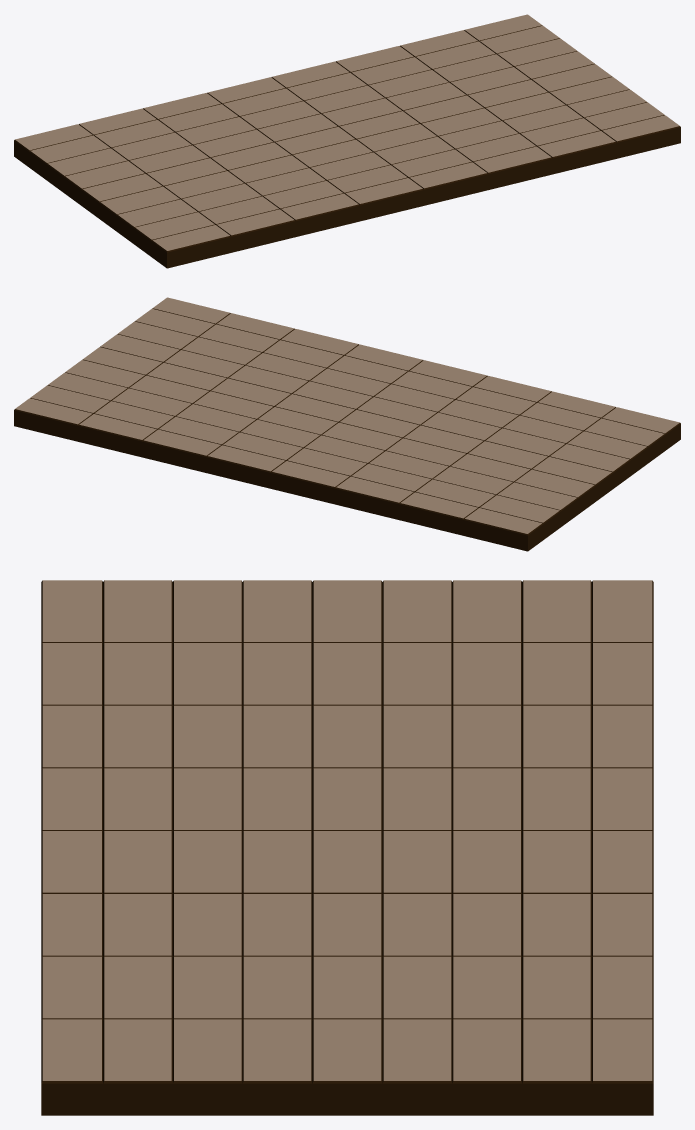
Rendered from suelo3.fbx.
3 renders of one model, top to bottom at view 1: azimuth 30°, elevation 25°; view 2: azimuth 150°, elevation 25°; view 3: azimuth 270°, elevation 25°, orthographic. The views are drawn at different scales.
Parts seen in each view (by area): view 1: Cube.022; view 2: Cube.022; view 3: Cube.022.
Part boxes in pixels (bbox=[...]): Cube.022: bbox=[14, 14, 680, 268]; Cube.022: bbox=[14, 297, 680, 551]; Cube.022: bbox=[41, 580, 653, 1115].
Size of the model in its own units: 10093 by 321 by 5207.
